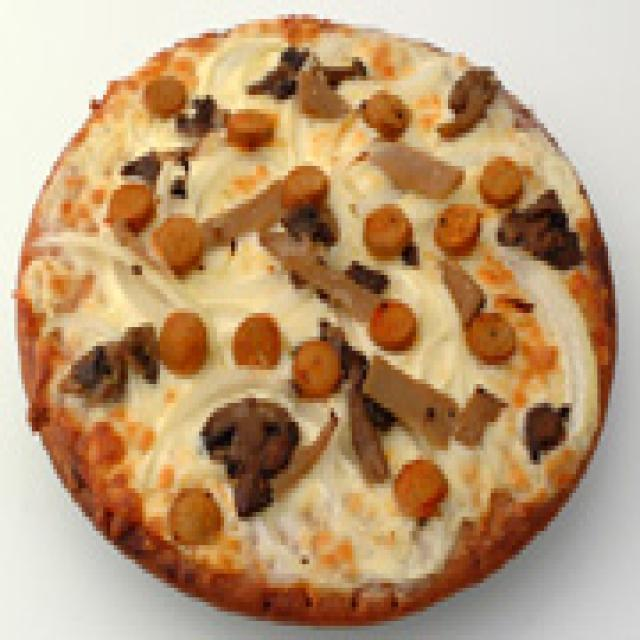Pizza: (3, 4, 640, 634)
